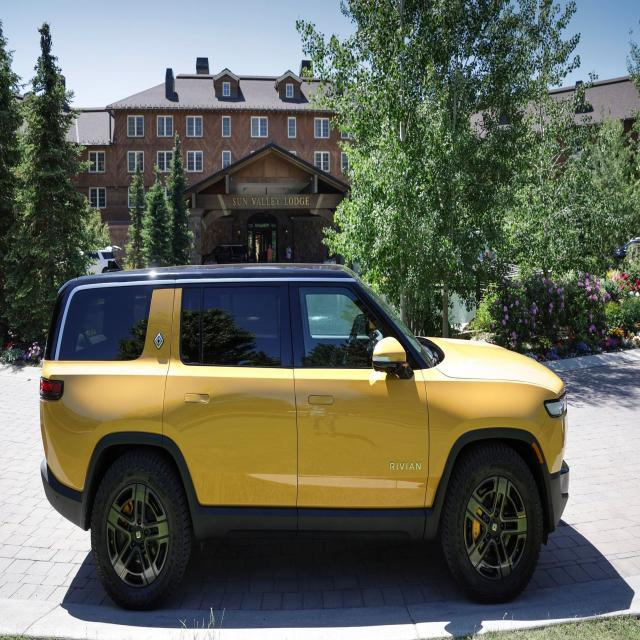sedan: (38, 259, 570, 611)
